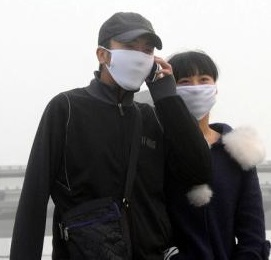person: (15, 8, 213, 260), (160, 48, 271, 260)
